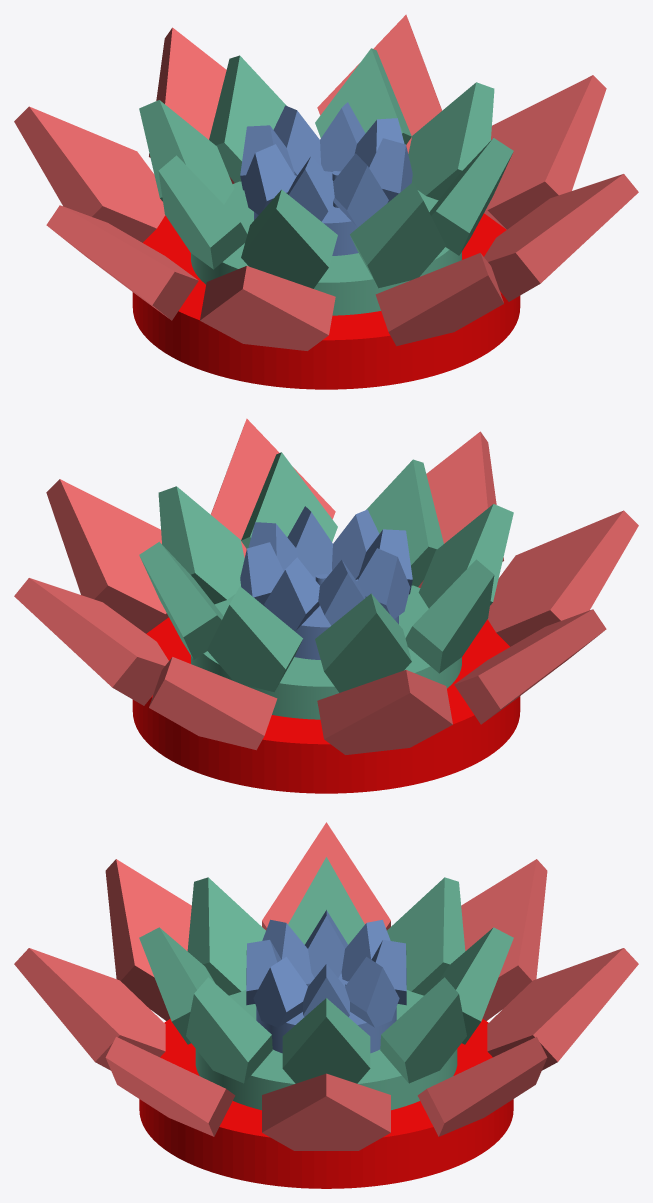
The model's file is current-design.glb.
The picture shows the model from 3 angles, top to bottom: view 1: azimuth 30°, elevation 25°; view 2: azimuth 150°, elevation 25°; view 3: azimuth 270°, elevation 25°; orthographic projection. The views are drawn at different scales.
Visible parts, largest first — view 1: 3DGeom-3 (×8), 3DGeom-12 (×8), 3DGeom-1, 3DGeom-21 (×8), 3DGeom-11, 3DGeom-20; view 2: 3DGeom-3 (×8), 3DGeom-12 (×8), 3DGeom-1, 3DGeom-21 (×8), 3DGeom-11, 3DGeom-20; view 3: 3DGeom-3 (×8), 3DGeom-12 (×8), 3DGeom-1, 3DGeom-21 (×8), 3DGeom-11, 3DGeom-20.
Part boxes in pixels (box(x1,y1,x2,y2)): 3DGeom-3 (×8): box(14, 14, 638, 350); 3DGeom-12 (×8): box(139, 48, 513, 288); 3DGeom-1: box(132, 213, 520, 389); 3DGeom-21 (×8): box(240, 102, 412, 227); 3DGeom-11: box(191, 181, 461, 315); 3DGeom-20: box(254, 164, 358, 255); 3DGeom-3 (×8): box(14, 418, 638, 754); 3DGeom-12 (×8): box(139, 452, 513, 692); 3DGeom-1: box(132, 617, 520, 793); 3DGeom-21 (×8): box(240, 506, 412, 631); 3DGeom-11: box(191, 585, 461, 719); 3DGeom-20: box(294, 568, 398, 659); 3DGeom-3 (×8): box(14, 822, 638, 1150); 3DGeom-12 (×8): box(139, 857, 513, 1083); 3DGeom-1: box(139, 1018, 513, 1188); 3DGeom-21 (×8): box(246, 910, 406, 1027); 3DGeom-11: box(195, 990, 457, 1110); 3DGeom-20: box(256, 973, 396, 1053).
Bounding box in the file's own units: 0.0848 × 0.0274 × 0.0848.
